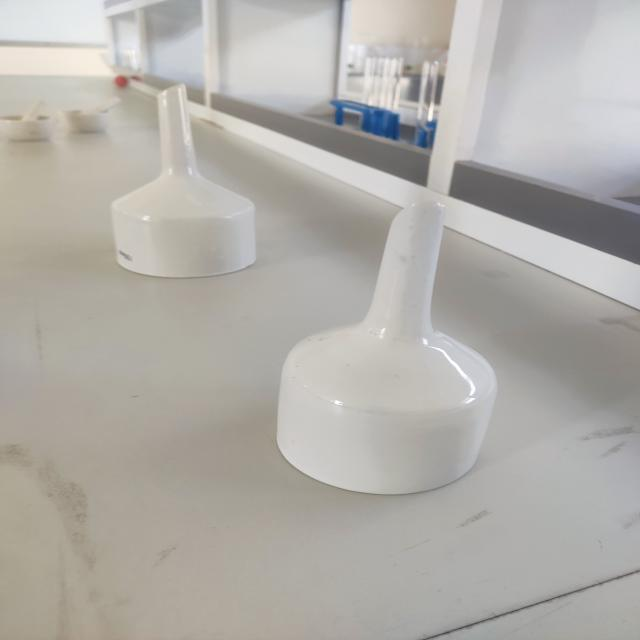Buchner_Funnel: (258, 172, 538, 510), (86, 59, 282, 293)
